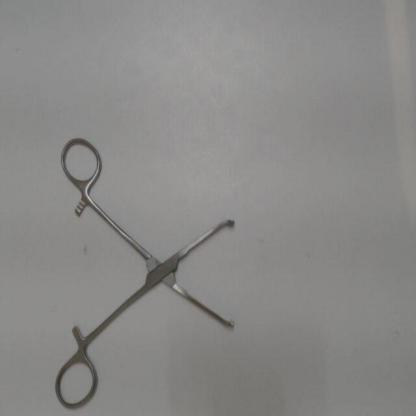Allis Tissue Forceps: (49, 131, 244, 412)
